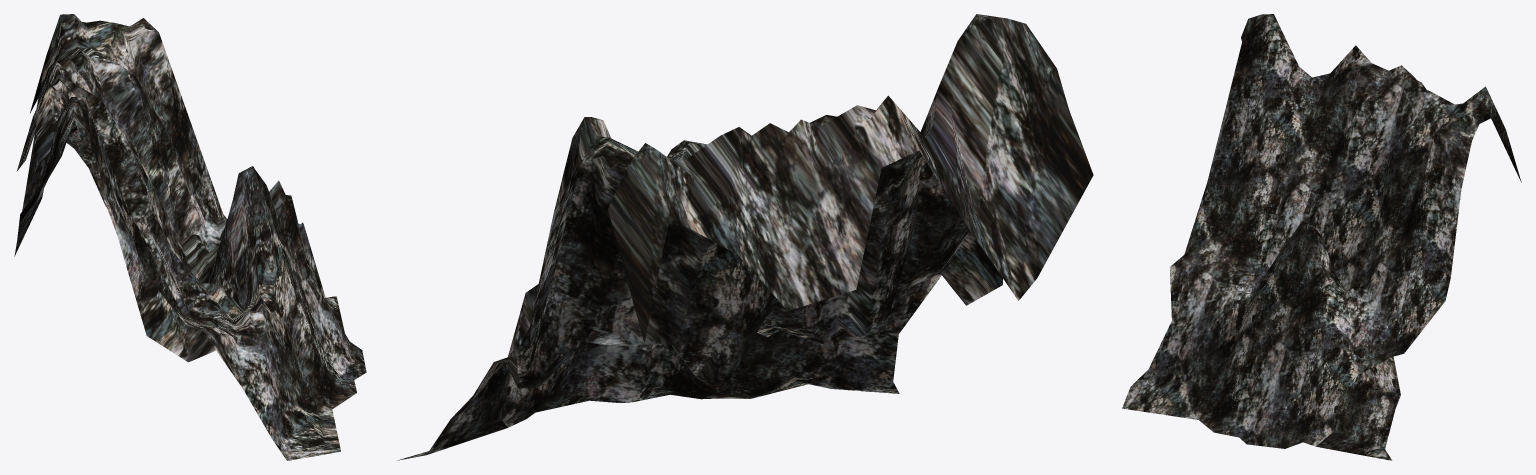
The model's file is OVERHILL_A_01_MOUN1_OBJECT150.fbx.
The picture shows the model from 3 angles, left to right: view 1: azimuth 30°, elevation 25°; view 2: azimuth 150°, elevation 25°; view 3: azimuth 270°, elevation 25°; orthographic projection. The views are drawn at different scales.
Parts seen in each view (by area): view 1: OVERHILL_A_01_MOUN1_OBJECT150; view 2: OVERHILL_A_01_MOUN1_OBJECT150; view 3: OVERHILL_A_01_MOUN1_OBJECT150.
Boxes of the visible parts, bbox=[...] form: OVERHILL_A_01_MOUN1_OBJECT150: bbox=[14, 14, 366, 460]; OVERHILL_A_01_MOUN1_OBJECT150: bbox=[397, 14, 1093, 460]; OVERHILL_A_01_MOUN1_OBJECT150: bbox=[1122, 14, 1521, 460].
Bounding box in the file's own units: 402874 × 335443 × 390101.
Materials: 1 (1 with a texture image).
